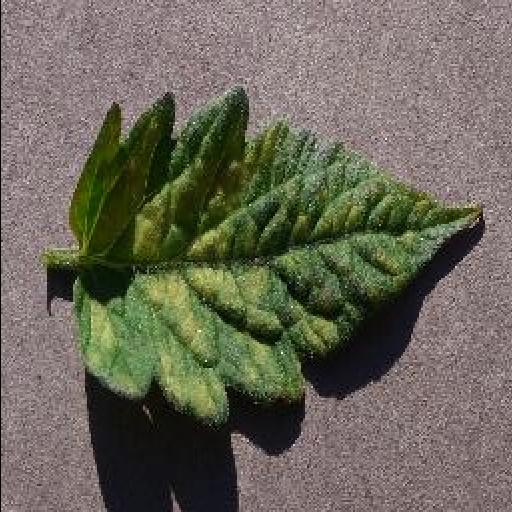disease_tomato: (72, 86, 490, 431)
